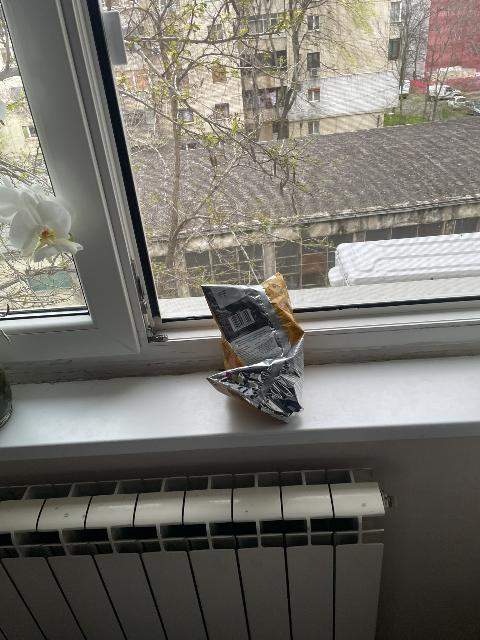Chio Hula Hoops Cheese 70g: (202, 275, 310, 420)
